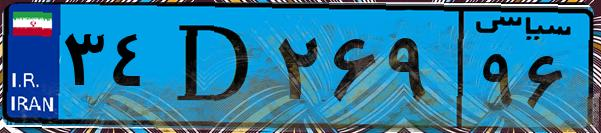2: (270, 28, 330, 110)
3: (57, 26, 110, 100)
4: (110, 28, 158, 98)
6: (330, 28, 385, 110), (525, 38, 570, 115)
9: (385, 28, 445, 110), (475, 38, 525, 113)
D: (158, 12, 270, 120)
